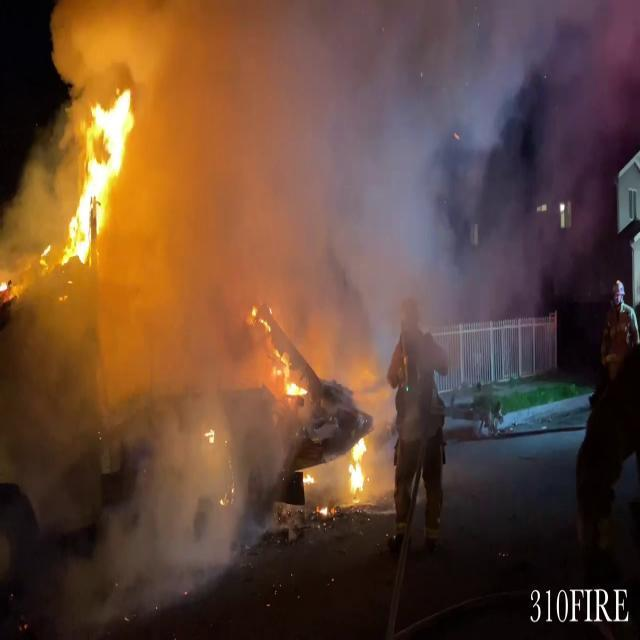Fire: (59, 76, 138, 266), (250, 300, 306, 400), (343, 433, 373, 498)
Smoke: (24, 0, 618, 358)
